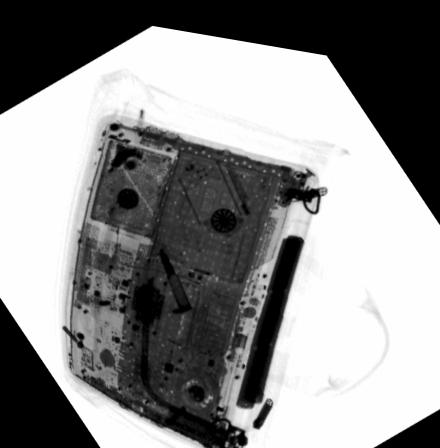Bullet: (157, 241, 192, 308)
